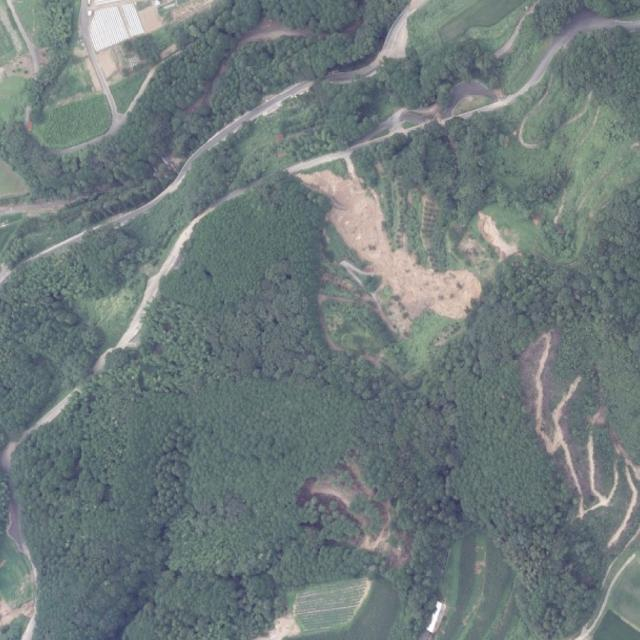landslide: (299, 170, 482, 320)
